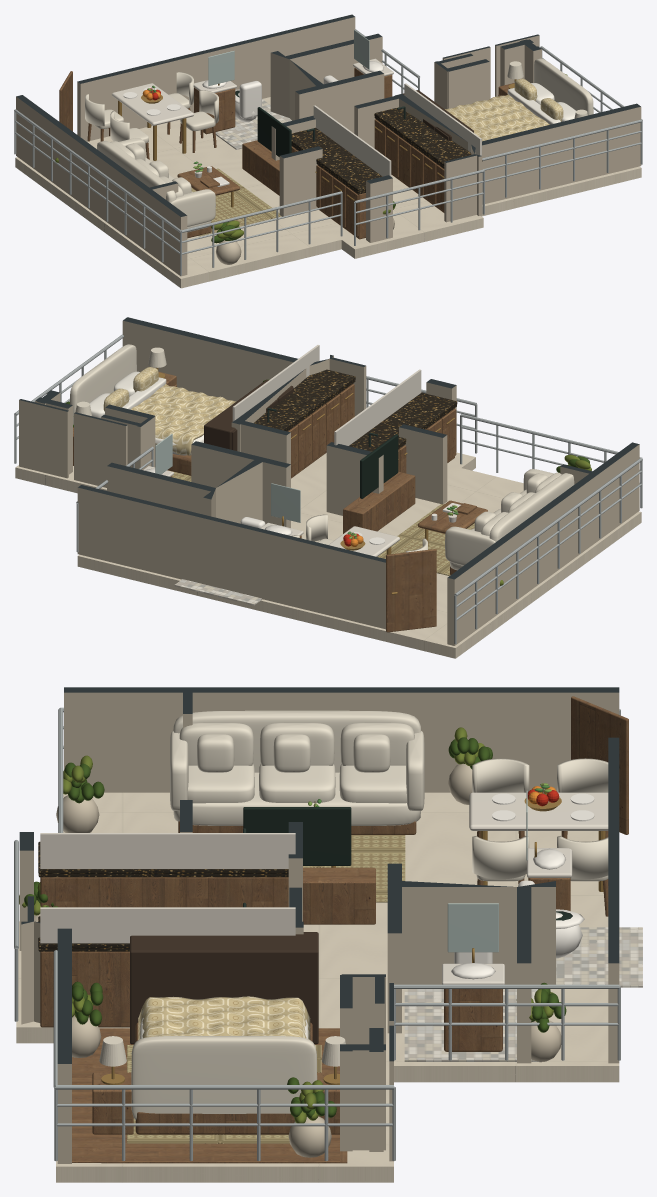
The picture shows the model from 3 angles, top to bottom: view 1: azimuth 30°, elevation 25°; view 2: azimuth 150°, elevation 25°; view 3: azimuth 270°, elevation 25°; orthographic projection. The views are drawn at different scales.
Visible parts, largest first — view 1: Source-traced internal and perimeter walls • Wall, Continuous apartment foundation, Soft jacquard duvet with folds, Deep green kitchen stone, Deep green kitchen stone.001, Backsplash, Living patterned carpet, Padded headboard, Dining top, Walnut media console, Backsplash.001, Sofa back (+32 smaller); view 2: Source-traced internal and perimeter walls • Wall, Continuous apartment foundation, Oak entrance door, Soft jacquard duvet with folds, Walnut media console, Deep green kitchen stone.001, Deep green kitchen stone, Backsplash, Padded headboard, Sofa back, Television, Living patterned carpet (+18 smaller); view 3: Source-traced internal and perimeter walls • Wall, Continuous apartment foundation, Fitted dark wardrobe, Padded headboard, Backsplash, Full bedroom wood flooring, Backsplash.001, Base cabinets, Soft jacquard duvet with folds, Base cabinets.001, Television, Walnut media console (+46 smaller).
Part boxes in pixels (<box>): Source-traced internal and perimeter walls • Wall: <box>16,14,641,276</box>; Continuous apartment foundation: <box>15,97,641,288</box>; Soft jacquard duvet with folds: <box>445,94,549,141</box>; Deep green kitchen stone: <box>291,127,382,192</box>; Deep green kitchen stone.001: <box>374,107,482,166</box>; Backsplash: <box>313,105,391,176</box>; Living patterned carpet: <box>191,168,281,236</box>; Padded headboard: <box>534,58,593,115</box>; Dining top: <box>112,83,193,125</box>; Walnut media console: <box>242,140,279,195</box>; Backsplash.001: <box>404,83,481,155</box>; Sofa back: <box>97,141,176,202</box>; Source-traced internal and perimeter walls • Wall: <box>19,317,639,645</box>; Continuous apartment foundation: <box>15,452,641,658</box>; Oak entrance door: <box>386,549,436,632</box>; Soft jacquard duvet with folds: <box>131,384,236,455</box>; Walnut media console: <box>343,471,415,533</box>; Deep green kitchen stone.001: <box>254,369,355,430</box>; Deep green kitchen stone: <box>349,392,457,451</box>; Backsplash: <box>334,369,421,445</box>; Padded headboard: <box>70,344,136,424</box>; Sofa back: <box>489,473,574,541</box>; Television: <box>360,434,398,498</box>; Living patterned carpet: <box>377,504,474,575</box>; Source-traced internal and perimeter walls • Wall: <box>19,687,619,1163</box>; Continuous apartment foundation: <box>16,792,619,1182</box>; Fitted dark wardrobe: <box>130,932,318,1044</box>; Padded headboard: <box>131,1036,317,1120</box>; Backsplash: <box>40,833,295,868</box>; Full bedroom wood flooring: <box>72,1028,339,1162</box>; Backsplash.001: <box>40,907,295,943</box>; Base cabinets: <box>40,877,288,907</box>; Soft jacquard duvet with folds: <box>138,996,310,1039</box>; Base cabinets.001: <box>40,951,129,1027</box>; Television: <box>243,807,351,865</box>; Walnut media console: <box>303,867,375,924</box>.
Size of the model in its own units: 9.14 by 1.7 by 6.39.
25 materials, 6 textured.
